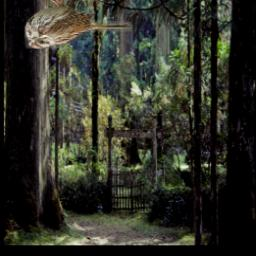Sparrow: (26, 0, 132, 50)
